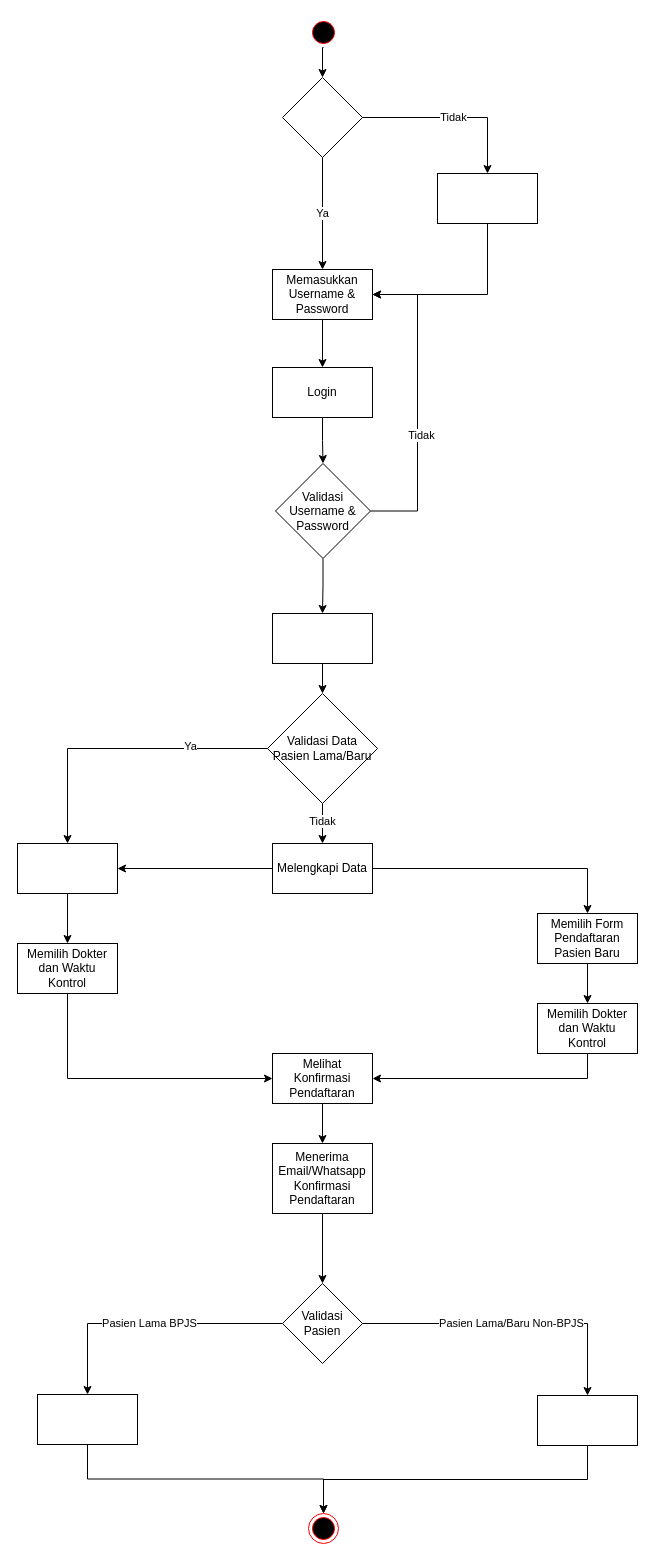
The diagram is 655 pixels wide and 1561 high, and some of its shapes have lost their labels. Each missing label, with the box of its shape:
Halaman Utama: (272, 612, 372, 664)
Melakukan Pendaftaran Akun: (436, 172, 538, 224)
Memilih Form Pendaftaran Pasien Lama: (16, 842, 118, 894)
Registrasi Ulang Loket Online: (536, 1394, 638, 1446)
Registrasi Ulang Mesin APM: (36, 1394, 138, 1444)
